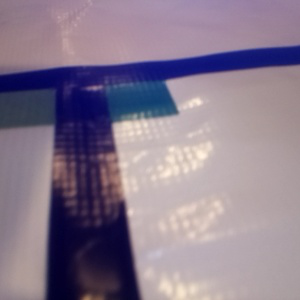bottom_left: (1, 73, 106, 130)
bottom_right: (55, 67, 179, 122)
